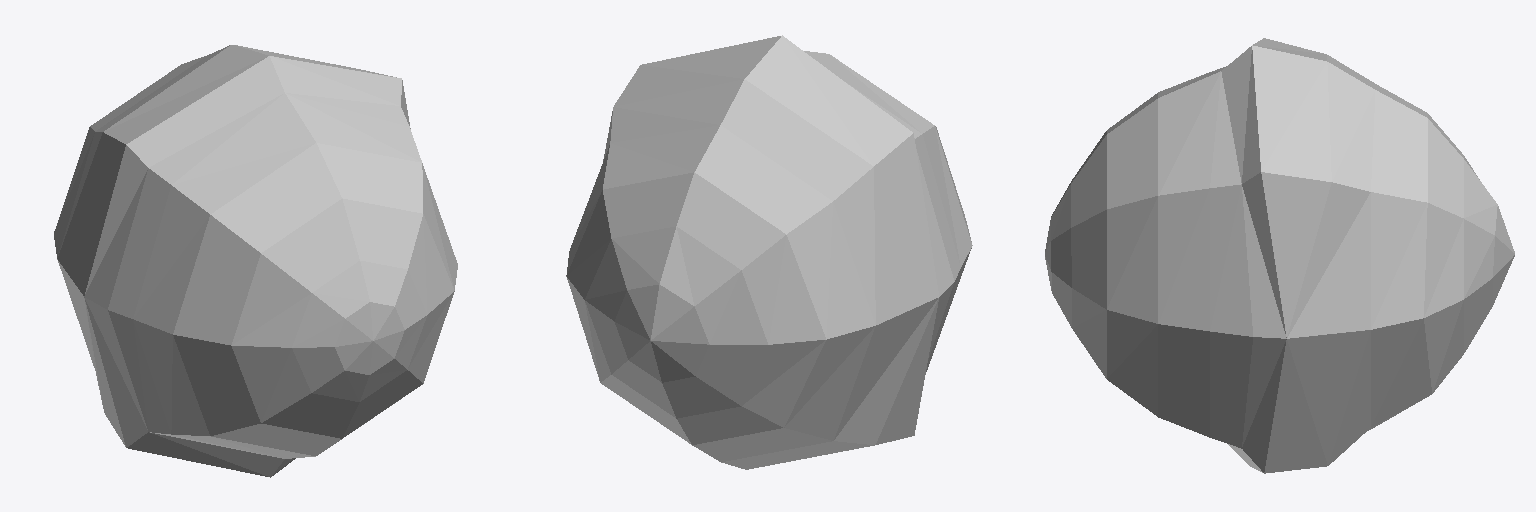
The model's file is eyeball.obj.
3 renders of one model, left to right at view 1: azimuth 30°, elevation 25°; view 2: azimuth 150°, elevation 25°; view 3: azimuth 270°, elevation 25°, orthographic.
Visible parts, largest first — view 1: Sphere_Sphere.001; view 2: Sphere_Sphere.001; view 3: Sphere_Sphere.001.
Part boxes in pixels (left/top/right/bottom): Sphere_Sphere.001: left=54, top=45, right=457, bottom=477; Sphere_Sphere.001: left=566, top=35, right=972, bottom=469; Sphere_Sphere.001: left=1045, top=38, right=1514, bottom=473.
Bounding box in the file's own units: 0.933 × 1.09 × 1.11.